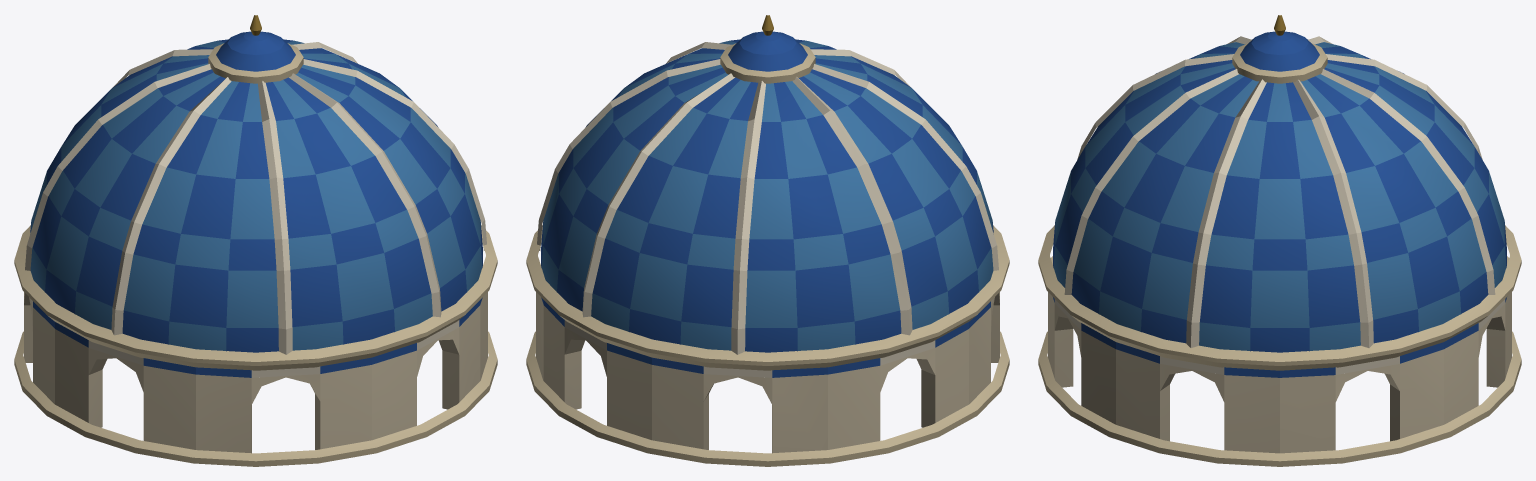
File: dome.hall_8.blue.glb
3 renders of one model, left to right at view 1: azimuth 30°, elevation 25°; view 2: azimuth 150°, elevation 25°; view 3: azimuth 270°, elevation 25°, orthographic.
Visible parts, largest first — view 1: dome_hall_8_blue; view 2: dome_hall_8_blue; view 3: dome_hall_8_blue.
Boxes of the visible parts, left/top/right/bottom form: dome_hall_8_blue: left=14, top=15, right=497, bottom=466; dome_hall_8_blue: left=526, top=15, right=1009, bottom=466; dome_hall_8_blue: left=1038, top=15, right=1521, bottom=466.
Size of what is drawn, in the model's own units: 15.2 by 12.15 by 15.2.
